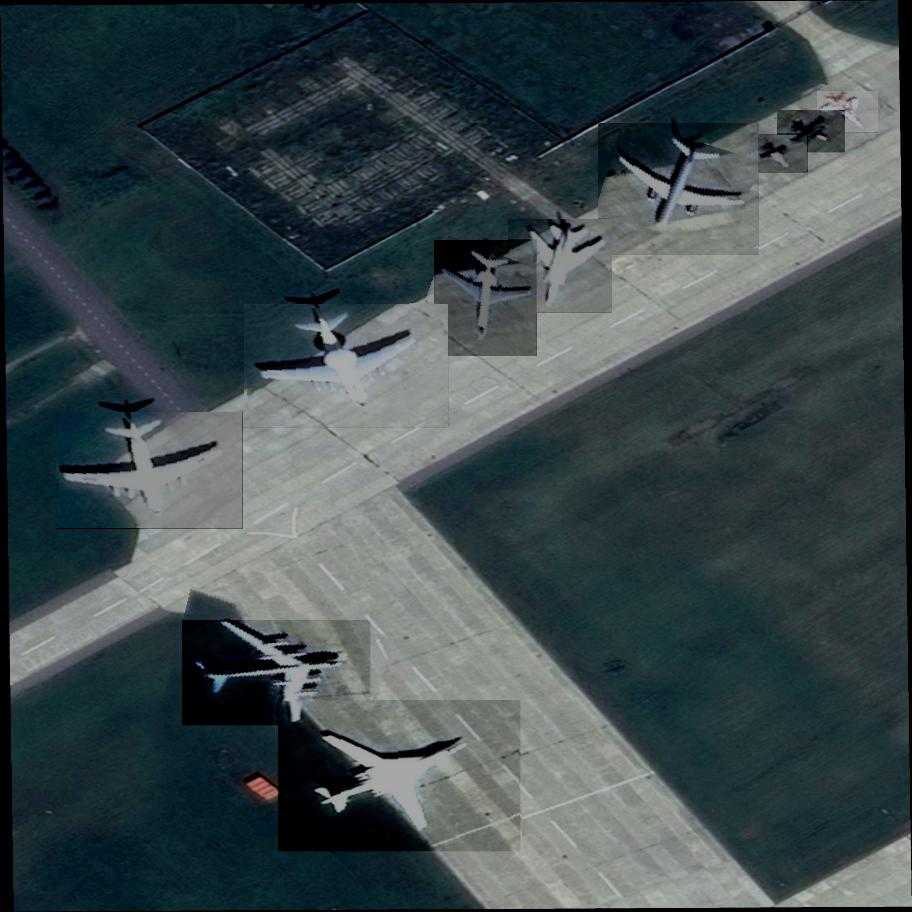plane: (278, 679, 521, 869), (244, 294, 448, 432), (57, 410, 243, 531), (598, 120, 763, 255), (183, 620, 370, 726), (422, 240, 553, 356), (508, 209, 612, 324), (818, 80, 879, 145), (778, 104, 846, 162), (749, 125, 808, 184)
